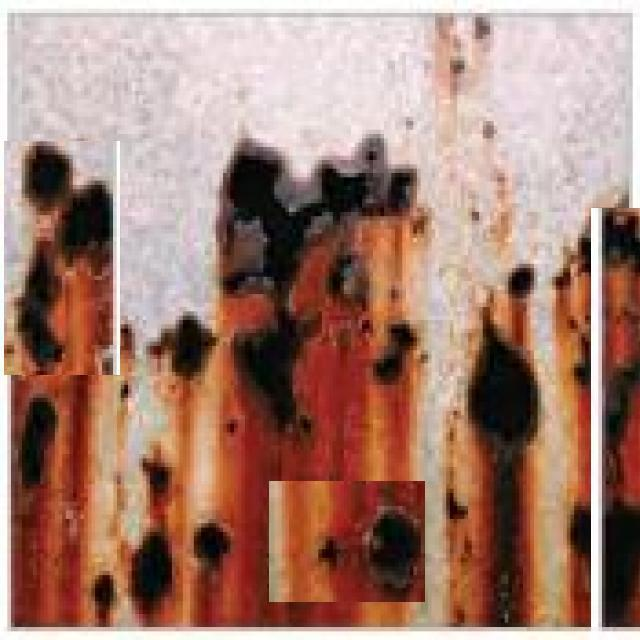Corrosion: (207, 148, 415, 622), (11, 144, 111, 627), (604, 209, 640, 592)
